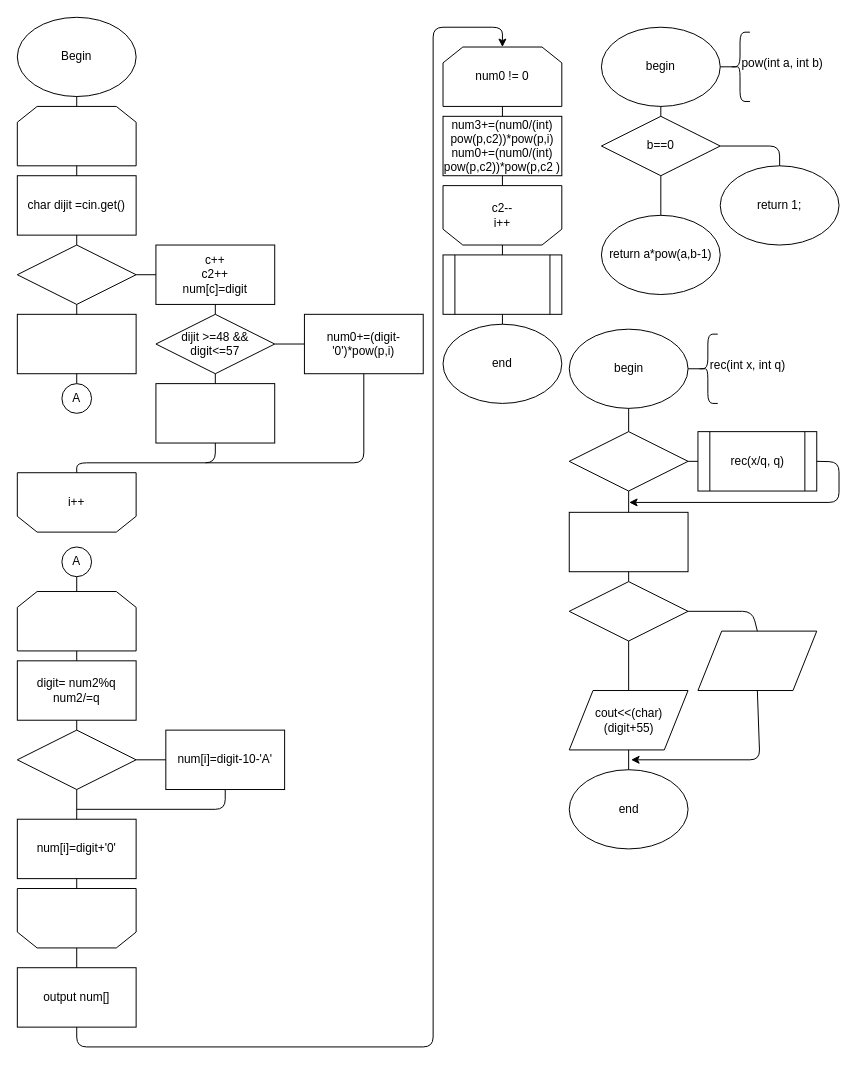
Some shapes in this 864 by 1072 pixel diagram are drawn without their labels. The centre of each missing label's shape, as x and y in pixels:
break: point 76,343
char digit=x%q: point 628,541
cout<<(int)digit: point 757,660
digit>=0 && digit<=9: point 628,611
digit>=10 && digit<=15: point 76,759
dijit != '\n': point 76,274
i++ count++: point 76,918
i=0: point 76,135
i=0 num2!=0: point 76,621
num0+=(digit-'A'+10)*pow(p,i): point 215,413
rec(num3, q): point 502,284
x!=0 && x>=q: point 628,461
